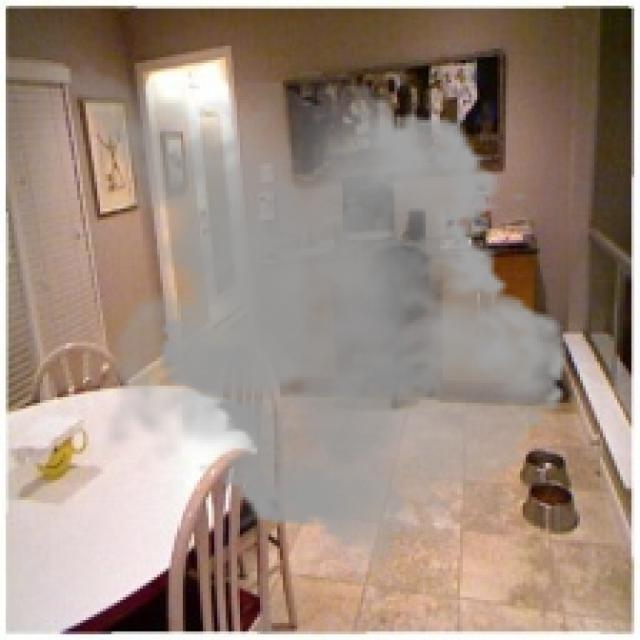Smoke: (14, 51, 583, 586)
